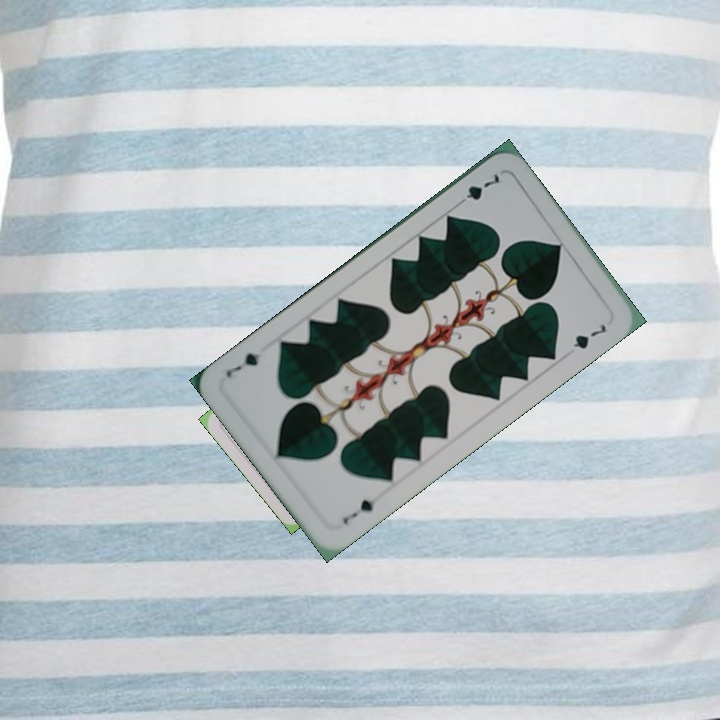G7: (452, 169, 503, 209), (338, 493, 383, 527)
